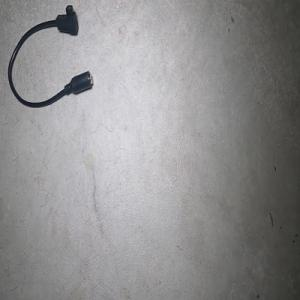Wire: (7, 4, 93, 108)
